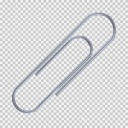Metal: (1, 7, 128, 121)
